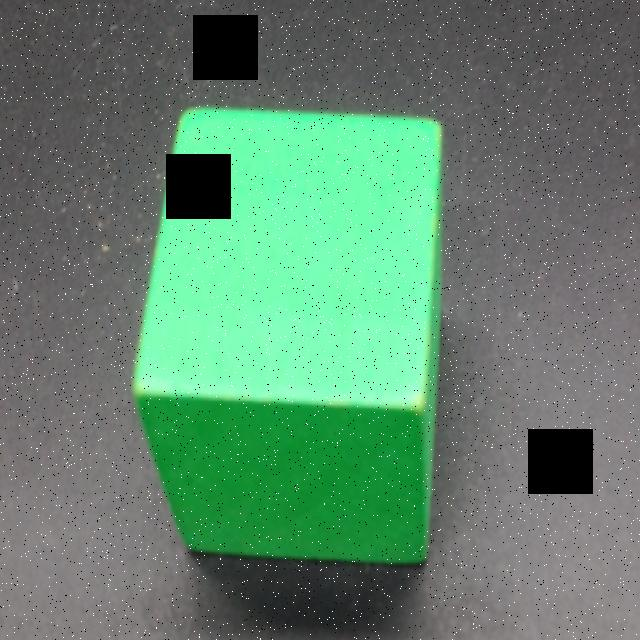green cube: (130, 107, 445, 567)
